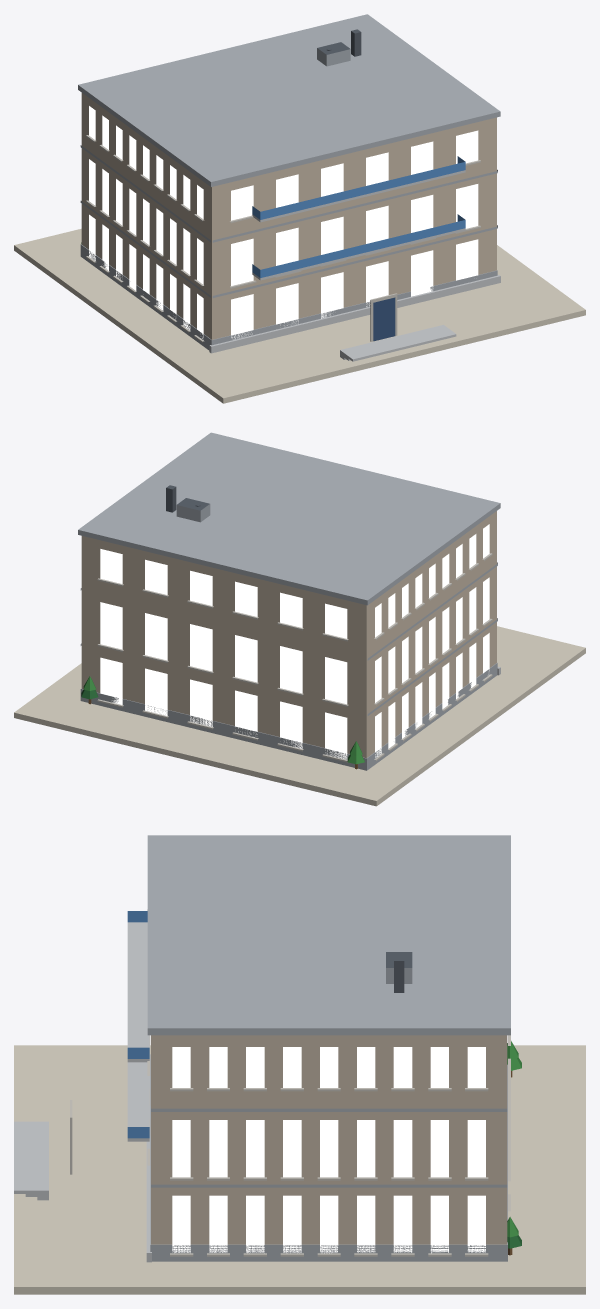
3 views of the same model, one above another, from view 1: azimuth 30°, elevation 25°; view 2: azimuth 150°, elevation 25°; view 3: azimuth 270°, elevation 25° (orthographic). The views are drawn at different scales.
Parts seen in each view (by area): view 1: b06_x2; view 2: b06_x2; view 3: b06_x2.
Boxes of the visible parts, x1,y1,x2,y2 form: b06_x2: (14, 14, 585, 403); b06_x2: (14, 432, 585, 806); b06_x2: (14, 835, 585, 1294).
Bounding box in the file's own units: 1.96 × 1.04 × 1.96.
